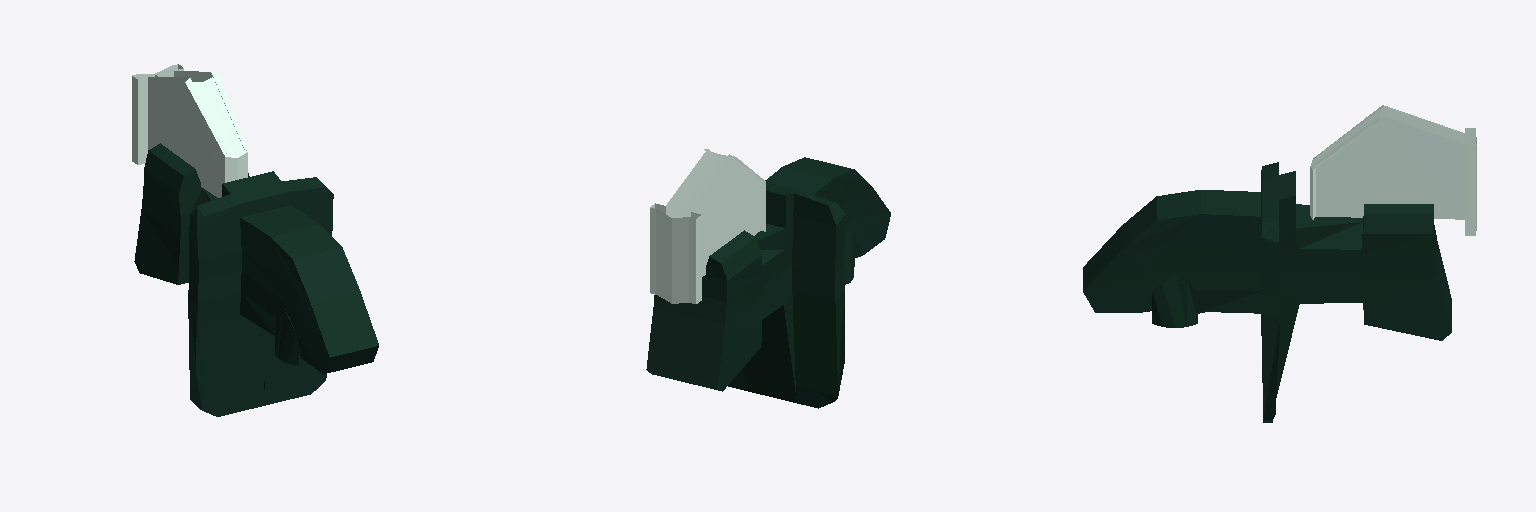
Rendered from thruster.obj.
3 views of the same model, side by side, from view 1: azimuth 30°, elevation 25°; view 2: azimuth 150°, elevation 25°; view 3: azimuth 270°, elevation 25° (orthographic).
Parts seen in each view (by area): view 1: Cabin_Plane.001_Windows.000; view 2: Cabin_Plane.001_Windows.000; view 3: Cabin_Plane.001_Windows.000.
Part boxes in pixels (x1,y1,x2,y2): Cabin_Plane.001_Windows.000: (132, 64, 378, 416); Cabin_Plane.001_Windows.000: (646, 149, 890, 408); Cabin_Plane.001_Windows.000: (1083, 105, 1476, 422).
Bounding box in the file's own units: 0.3004 × 0.6036 × 0.7503.